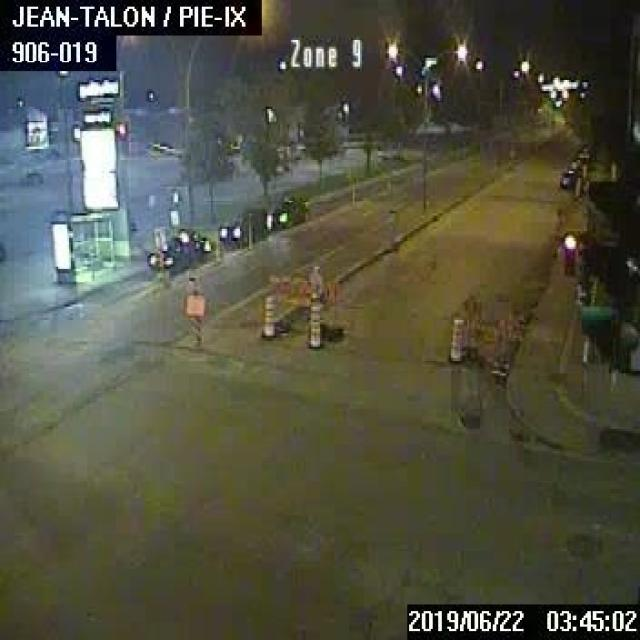construction: (458, 290, 524, 379), (264, 264, 336, 342), (304, 304, 322, 349), (449, 318, 463, 360), (261, 294, 274, 337)
vehicle: (146, 227, 210, 267), (217, 206, 264, 247), (263, 191, 305, 228), (558, 167, 574, 185), (575, 146, 591, 160), (566, 158, 580, 172)
